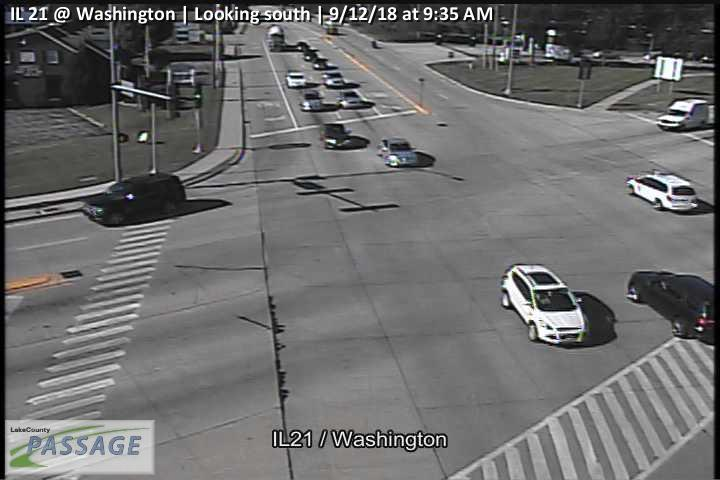SUV: (499, 263, 592, 345), (626, 269, 715, 343), (81, 171, 187, 226), (625, 172, 699, 212), (298, 91, 322, 111), (321, 69, 345, 87), (285, 71, 307, 88)
Sedan: (378, 137, 419, 166), (319, 123, 352, 149), (337, 89, 363, 109), (311, 57, 327, 70), (303, 50, 317, 61), (296, 41, 309, 51)
Truck: (656, 97, 710, 132), (266, 25, 285, 51)
